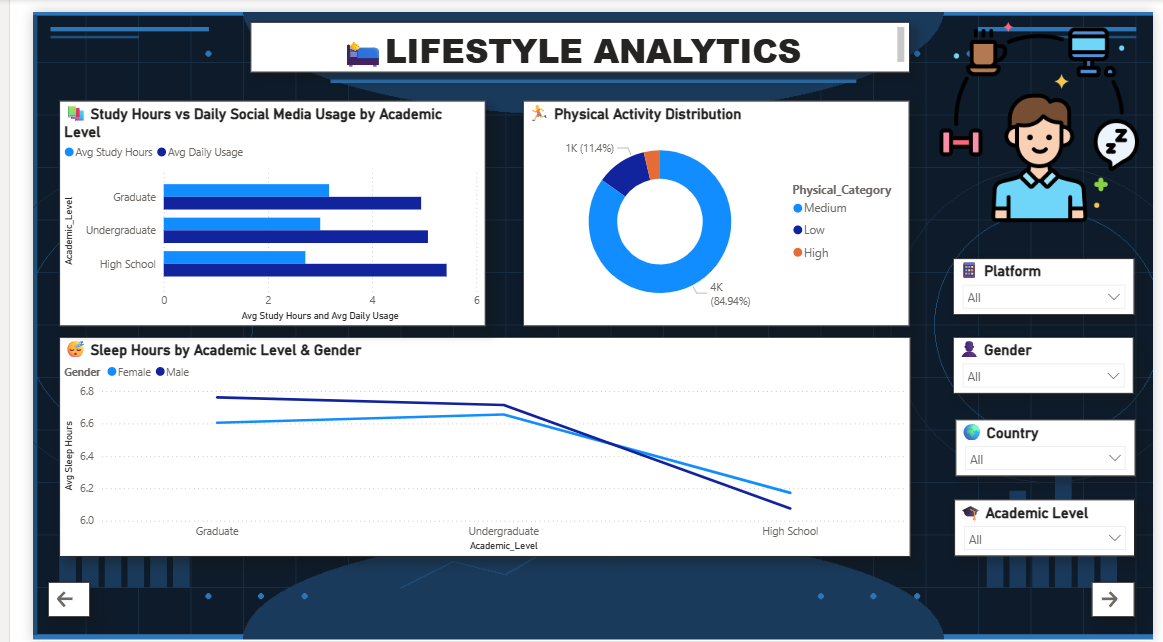

This screenshot's page, from the dashboard's own definition file:
{"tool":"powerbi","page":{"name":"lifestyle analytics","canvas":[1280,720],"ordinal":3},"visuals":[{"type":"textbox","box":[248.4,11,753.3,57.6],"z":0},{"type":"image","box":[1020,11.4,260,228.6],"z":1000},{"type":"slicer","title":"👤 Gender","fields":{"Values":["Student Social Media And Mental Health Impact.Gender"]},"box":[1051.6,371.7,206.7,64.8],"z":2000},{"type":"slicer","title":"🎓 Academic Level","fields":{"Values":["Student Social Media And Mental Health Impact.Academic_Level"]},"box":[1052.9,557.6,206.7,64.8],"z":3000},{"type":"slicer","title":"🌍 Country","fields":{"Values":["Student Social Media And Mental Health Impact.Country"]},"box":[1054.1,465.9,205.4,64.8],"z":4000},{"type":"slicer","title":"📱 Platform","fields":{"Values":["Student Social Media And Mental Health Impact.Most_Used_Platform"]},"box":[1051.1,281.3,207.2,64.5],"z":5000},{"type":"donutChart","title":"🏃 Physical Activity Distribution","fields":{"Category":["Student Social Media And Mental Health Impact.Physical_Category"],"Y":["Student Social Media And Mental Health Impact.Total Students"]},"box":[559.9,101.5,441.9,258],"z":6000},{"type":"lineChart","title":"😴 Sleep Hours by Academic Level & Gender","fields":{"Category":["Student Social Media And Mental Health Impact.Academic_Level"],"Y":["Student Social Media And Mental Health Impact.Avg Sleep Hours"],"Series":["Student Social Media And Mental Health Impact.Gender"]},"box":[30.2,371.9,972.9,251.1],"z":7000},{"type":"actionButton","box":[17.8,651.8,48,39.8],"z":8000},{"type":"actionButton","box":[1210,651.4,48.6,40],"z":9000},{"type":"clusteredBarChart","title":"📚 Study Hours vs Daily Social Media Usage by Academic Level","fields":{"Category":["Student Social Media And Mental Health Impact.Academic_Level"],"Y":["Student Social Media And Mental Health Impact.Avg Study Hours","Student Social Media And Mental Health Impact.Avg Daily Usage"]},"box":[30.2,101.5,487.1,258],"z":10000}]}

Visuals, with their boxes in screenshot pixels (x1, y1, x2, y2), scaled from the page's 1280x720 canvas onto the 1163x642 screenshot:
textbox: {"left": 226, "top": 10, "right": 910, "bottom": 61}
image: {"left": 927, "top": 10, "right": 1162, "bottom": 214}
"👤 Gender" slicer: {"left": 955, "top": 331, "right": 1143, "bottom": 389}
"🎓 Academic Level" slicer: {"left": 957, "top": 497, "right": 1144, "bottom": 555}
"🌍 Country" slicer: {"left": 958, "top": 415, "right": 1144, "bottom": 473}
"📱 Platform" slicer: {"left": 955, "top": 251, "right": 1143, "bottom": 308}
"🏃 Physical Activity Distribution" donutChart: {"left": 509, "top": 91, "right": 910, "bottom": 321}
"😴 Sleep Hours by Academic Level & Gender" lineChart: {"left": 27, "top": 332, "right": 911, "bottom": 556}
actionButton: {"left": 16, "top": 581, "right": 60, "bottom": 617}
actionButton: {"left": 1099, "top": 581, "right": 1144, "bottom": 616}
"📚 Study Hours vs Daily Social Media Usage by Academic Level" clusteredBarChart: {"left": 27, "top": 91, "right": 470, "bottom": 321}
